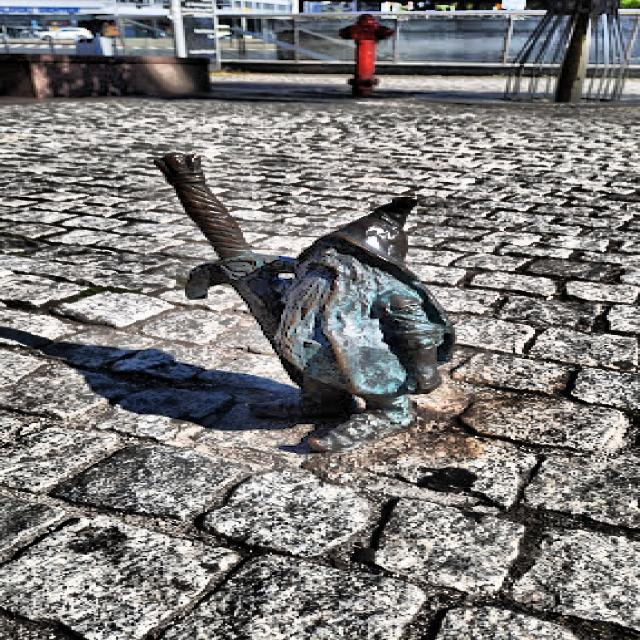Giermek_Grun-Waldek: (154, 154, 455, 456)
